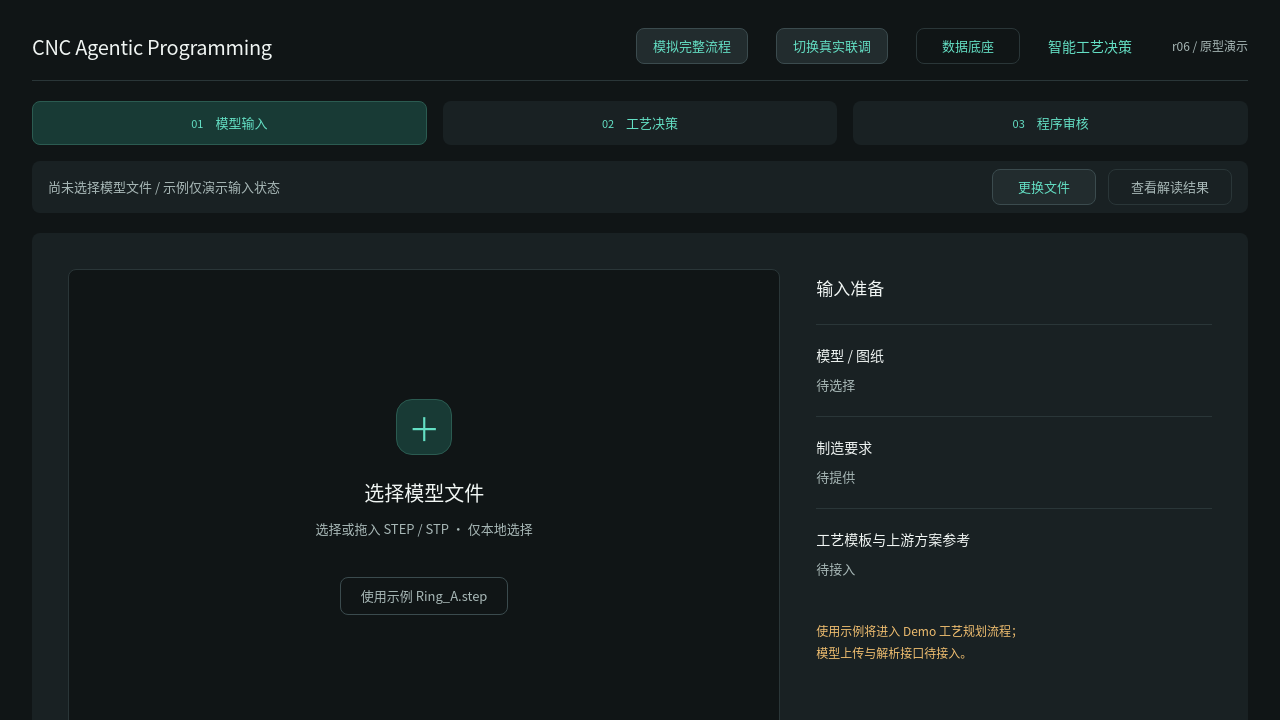
r06 模型输入 › 查看解读结果 入口提供说明并保持模型输入阶段
The image size is (1280, 720).
What coordinates should you click on to do the following:
click the button "查看解读结果"
I would click on:
 (1170, 187)
Its box is [1108, 169, 1232, 205].
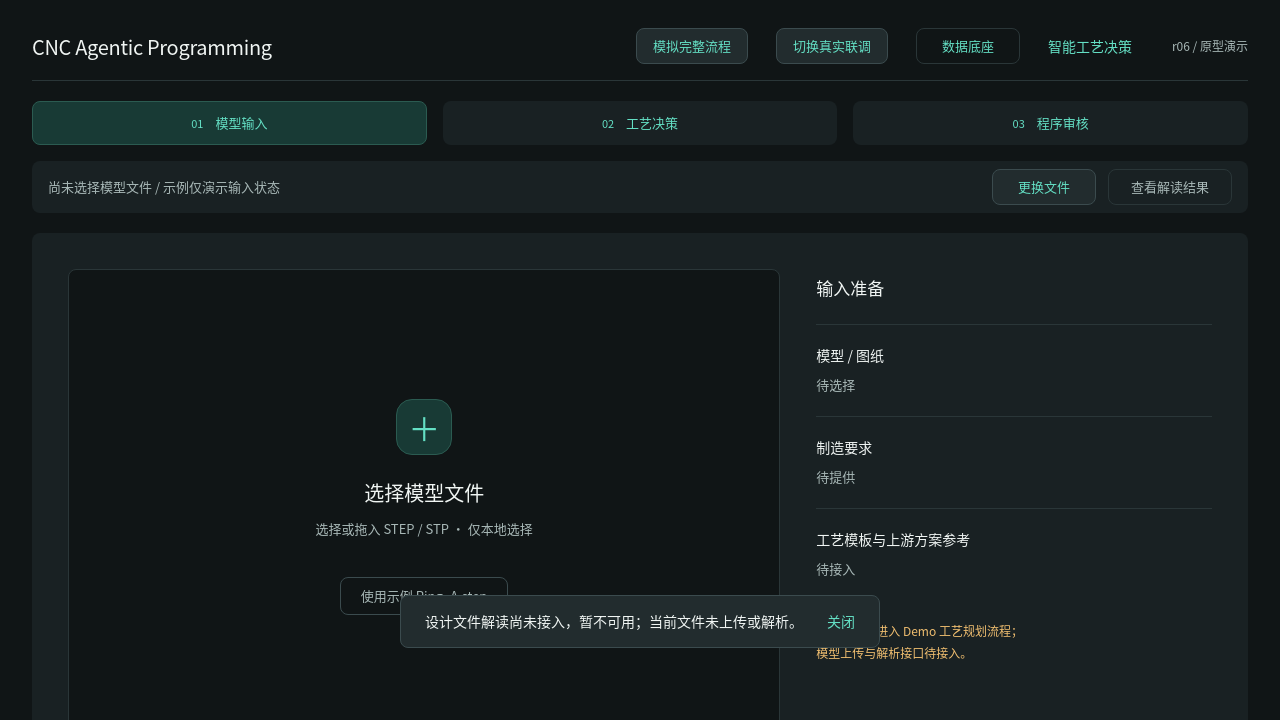
Expected: the message shows "设计文件解读尚未接入", [425, 611, 803, 631]
What coordinates should you click on to do the following:
click the button with aria-label "关闭功能提示"
I would click on:
 (841, 622)
Its box is [827, 612, 855, 631].
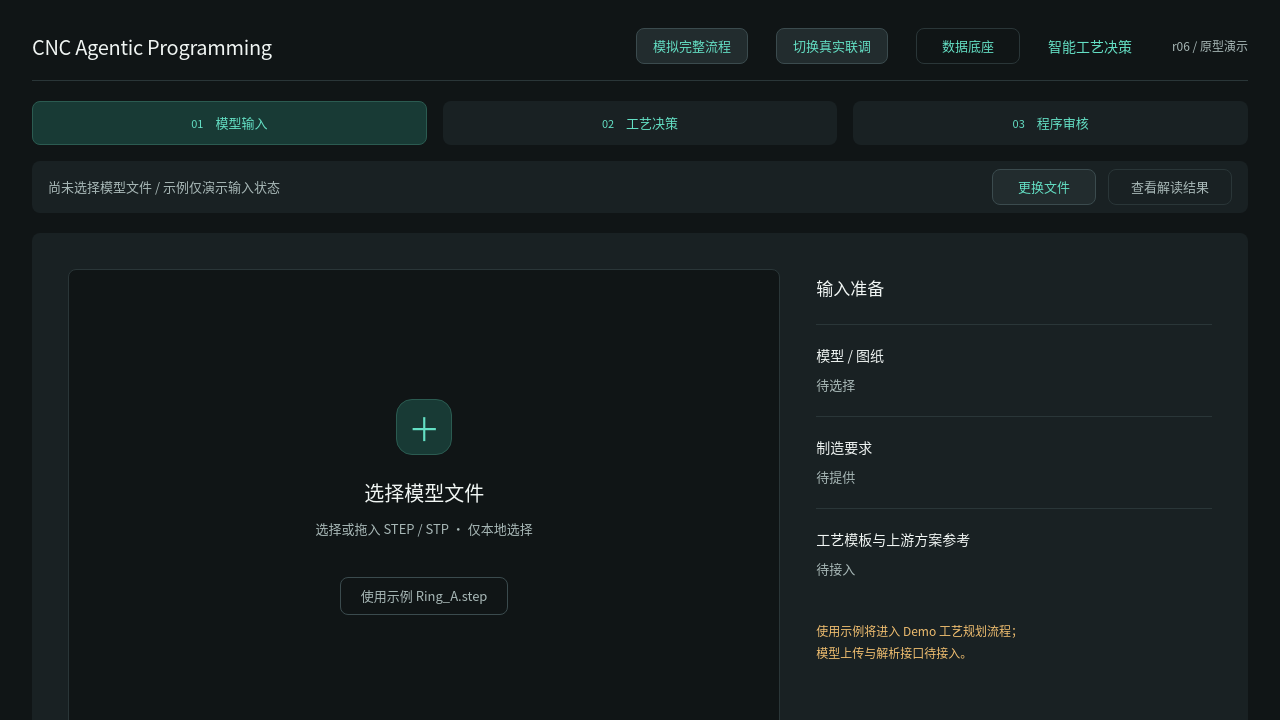
Expected: the message "设计文件解读尚未接入，暂不可用；当前文件未上传或解析。" is gone
